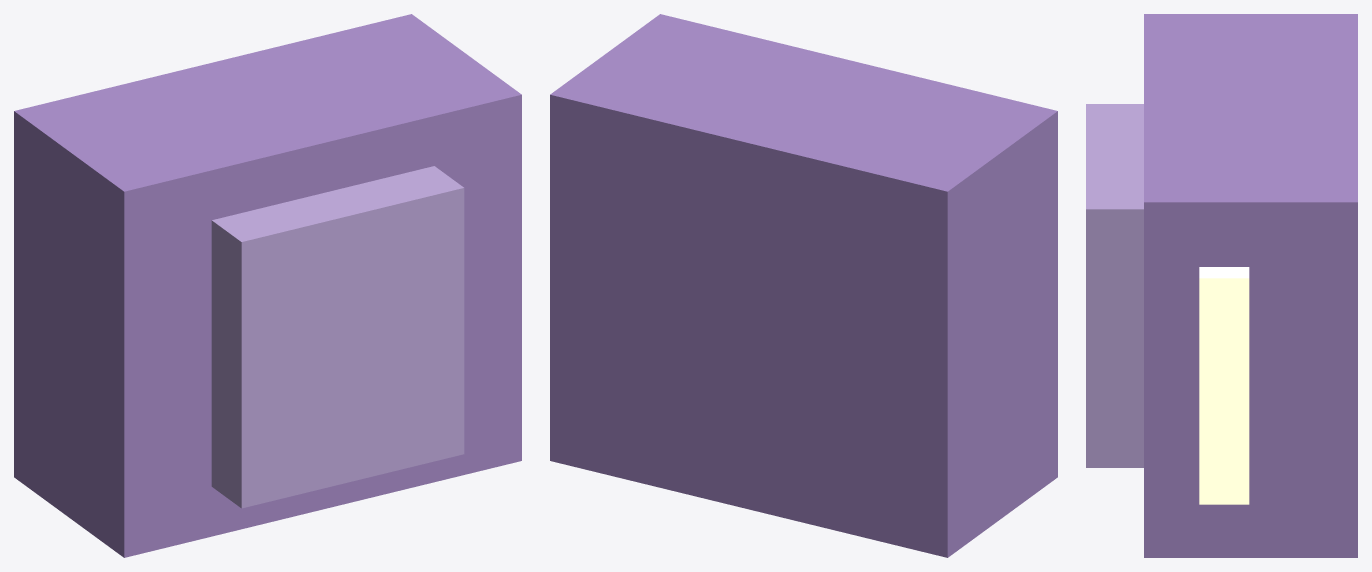
File: compute_performance.glb
3 renders of one model, left to right at view 1: azimuth 30°, elevation 25°; view 2: azimuth 150°, elevation 25°; view 3: azimuth 270°, elevation 25°, orthographic. The views are drawn at different scales.
Visible parts, largest first — view 1: case, heat_sink; view 2: case; view 3: case, heat_sink, indicator.
Boxes of the visible parts, x1=… form: case: x1=14, y1=14, x2=521, y2=557; heat_sink: x1=211, y1=166, x2=464, y2=508; case: x1=550, y1=14, x2=1057, y2=557; case: x1=1144, y1=14, x2=1357, y2=557; heat_sink: x1=1086, y1=104, x2=1143, y2=467; indicator: x1=1199, y1=267, x2=1249, y2=504.
Bounding box in the file's own units: 0.265 × 0.22 × 0.1525.
